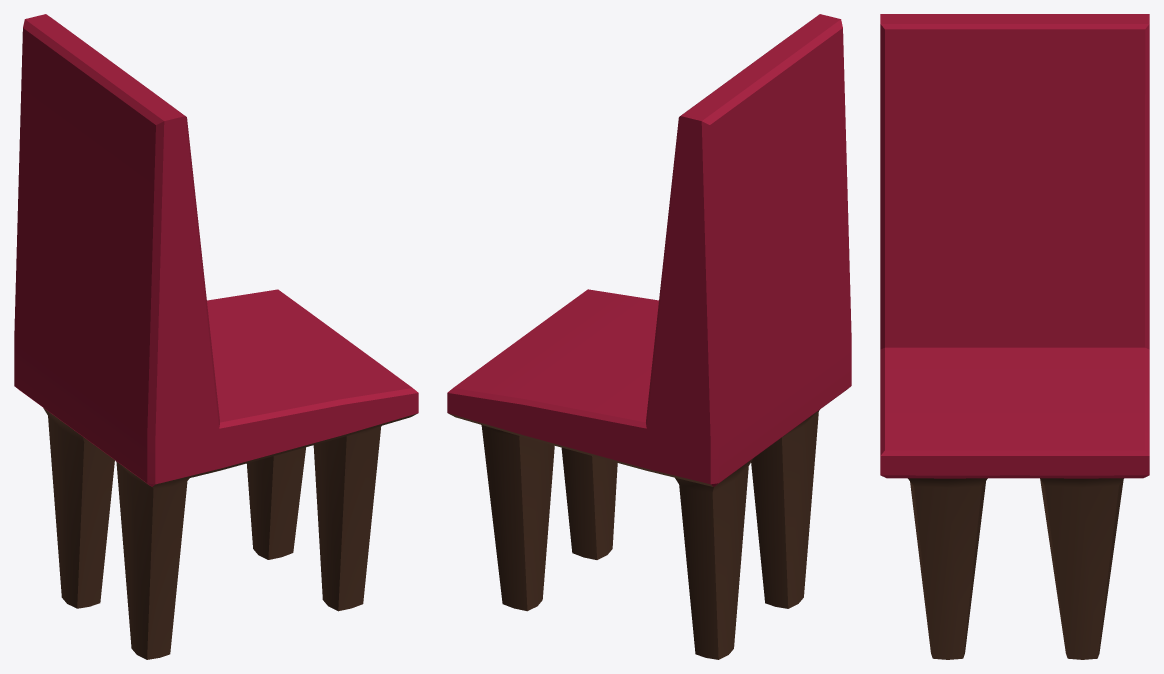
The model's file is chair_text (1).fbx.
3 renders of one model, left to right at view 1: azimuth 30°, elevation 25°; view 2: azimuth 150°, elevation 25°; view 3: azimuth 270°, elevation 25°, orthographic. The views are drawn at different scales.
Parts seen in each view (by area): view 1: chair; view 2: chair; view 3: chair.
Boxes of the visible parts, box(x1,y1,x2,y2) form: chair: box(14, 14, 418, 659); chair: box(447, 14, 851, 659); chair: box(880, 14, 1149, 659).
Size of the model in its own units: 62.79 by 125 by 56.49.
1 material, 1 textured.
